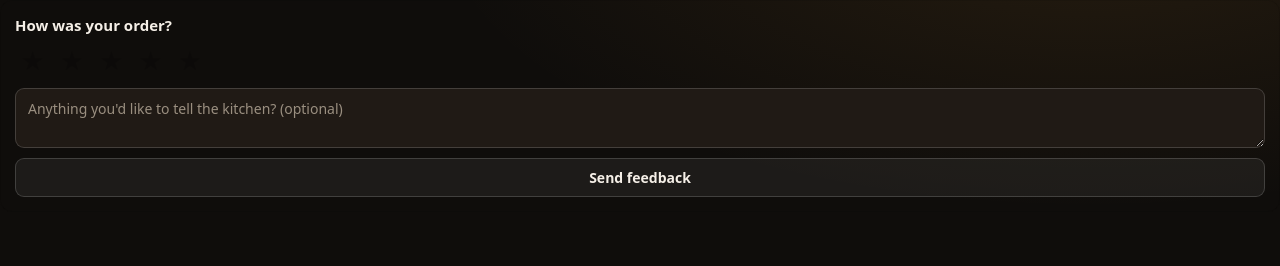
it: FeedbackForm — post-order rating › requires a star before submitting
Click the button "Send feedback" at {"x": 640, "y": 178}, box left=15, top=158, right=1265, bottom=197
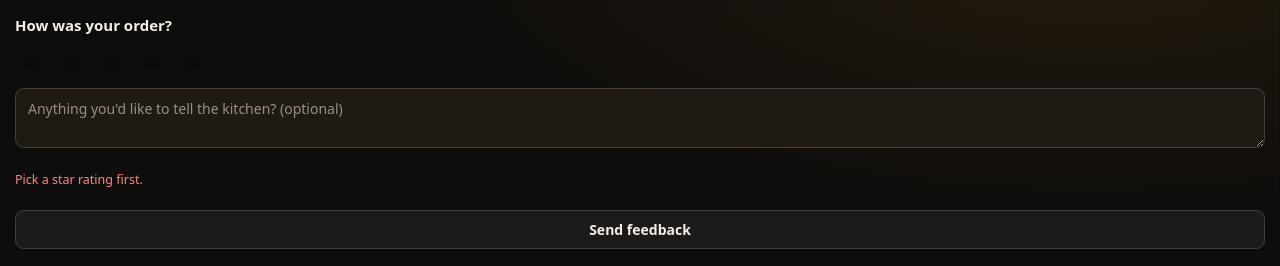
Result: the message "Pick a star rating first." is shown at left=15, top=170, right=143, bottom=188
